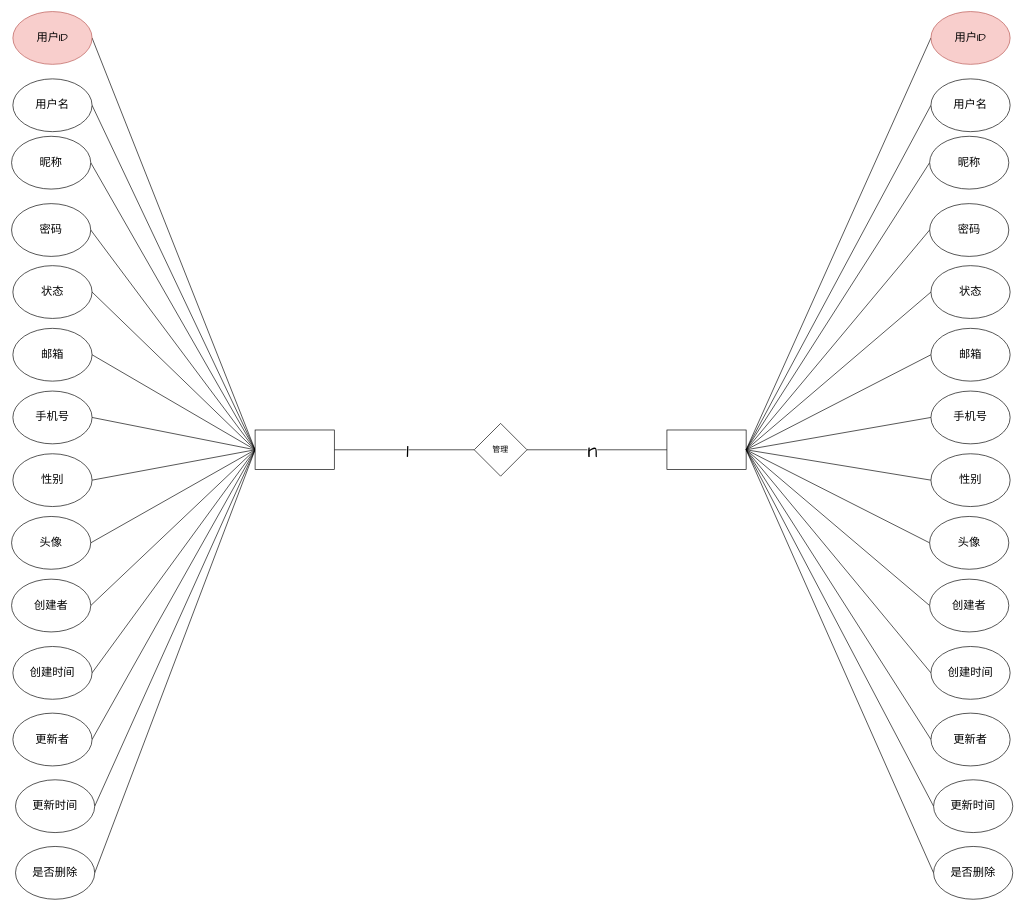
Some shapes in this 1024 by 911 pixel diagram are drawn without their labels. The centre of each missing label's shape, as x and y in pixels:
"用户" goes at [706,449].
"管理员" goes at [294,449].
